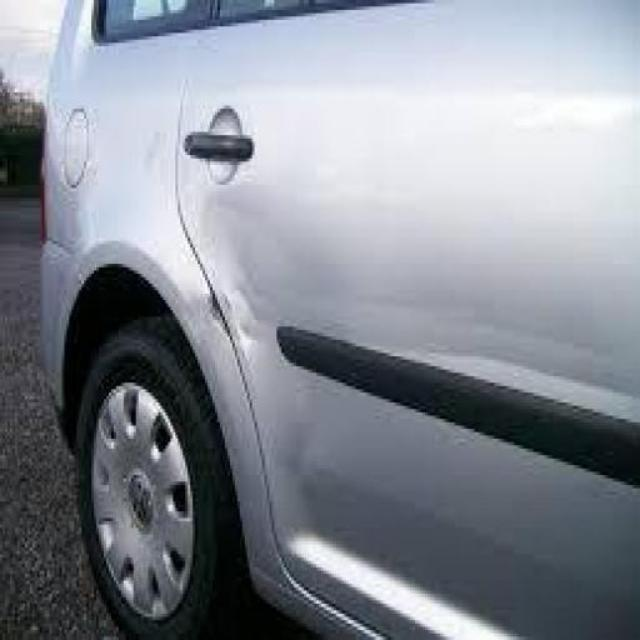dent: (186, 183, 640, 553)
